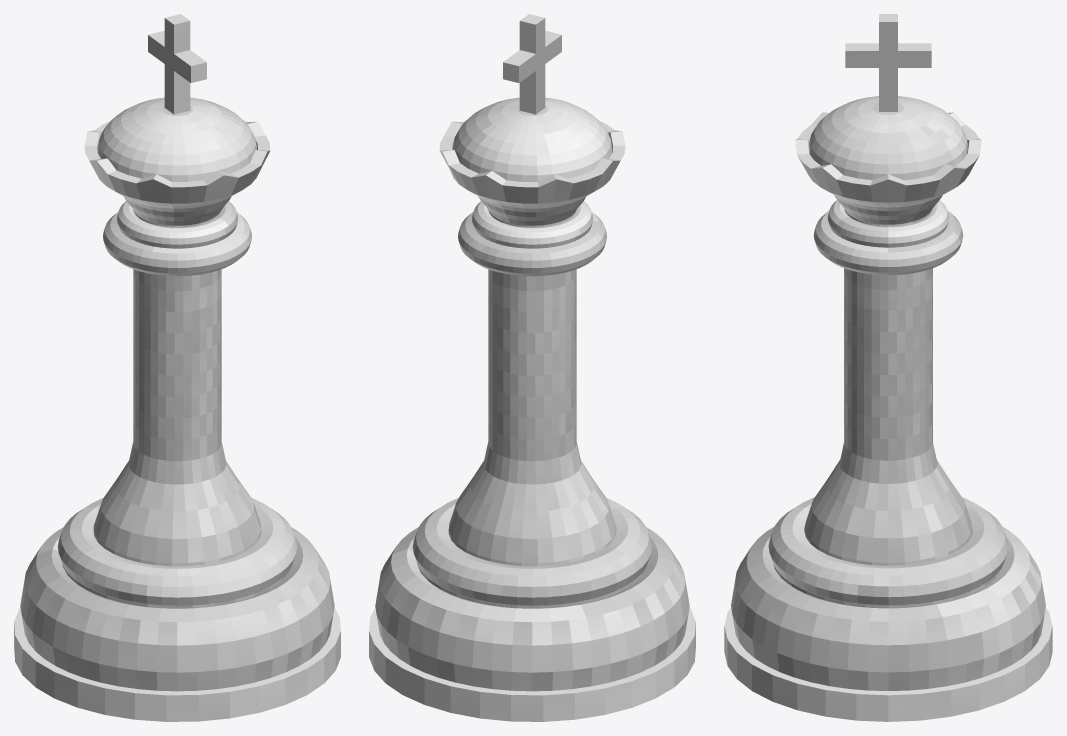
File: King.fbx
3 renders of one model, left to right at view 1: azimuth 30°, elevation 25°; view 2: azimuth 150°, elevation 25°; view 3: azimuth 270°, elevation 25°, orthographic.
Parts seen in each view (by area): view 1: KingWhite; view 2: KingWhite; view 3: KingWhite.
Boxes of the visible parts, x1=… form: KingWhite: x1=14, y1=14, x2=340, y2=721; KingWhite: x1=369, y1=14, x2=695, y2=721; KingWhite: x1=724, y1=14, x2=1052, y2=721.
Bounding box in the file's own units: 81.42 × 175 × 81.42.
